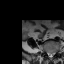CCS_normal: (49, 50, 51, 60)
LFS_normal: (54, 49, 56, 56)
LLS_normal: (51, 49, 54, 58)
RFS_stenosis: (44, 48, 47, 54)
RLS_normal: (47, 49, 49, 58)
